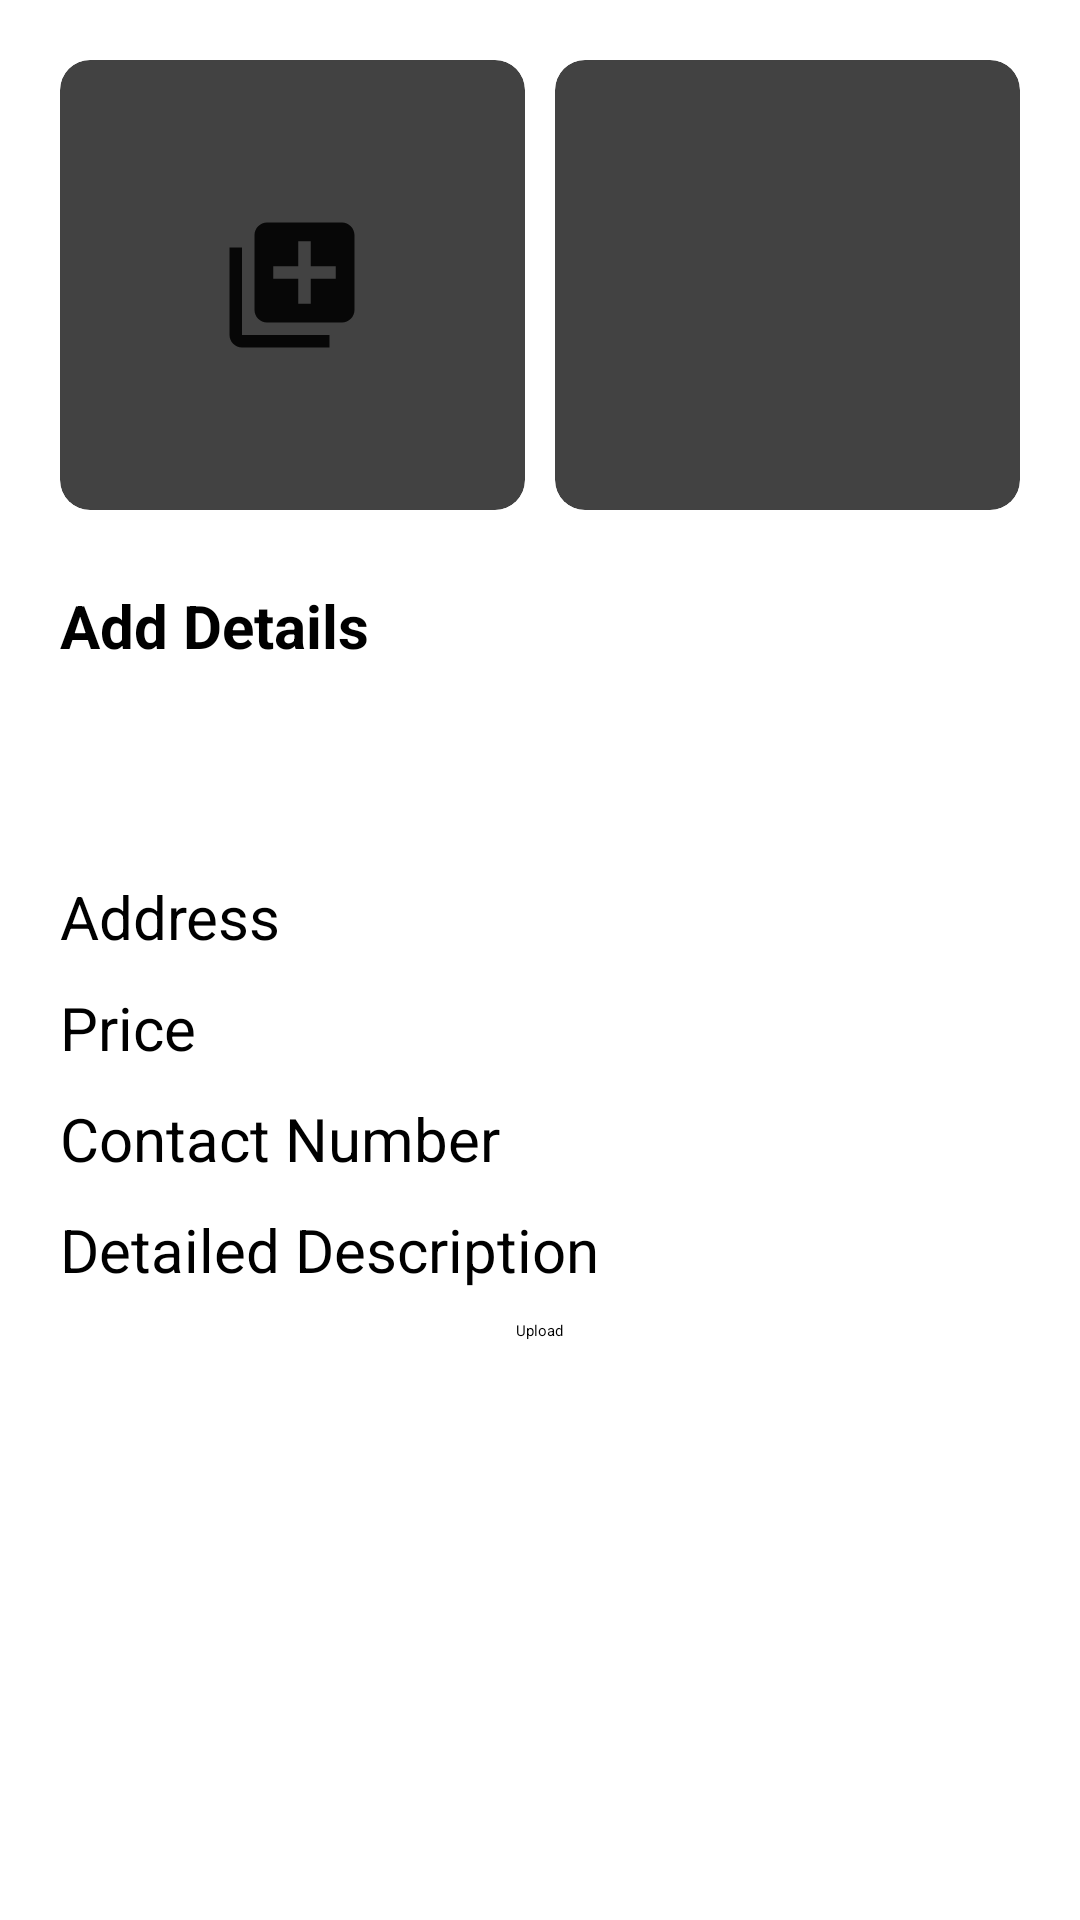

Named icons in this screenshot (1080 x 1920) and their centers, point (x, y):
add photos: point (292, 285)
